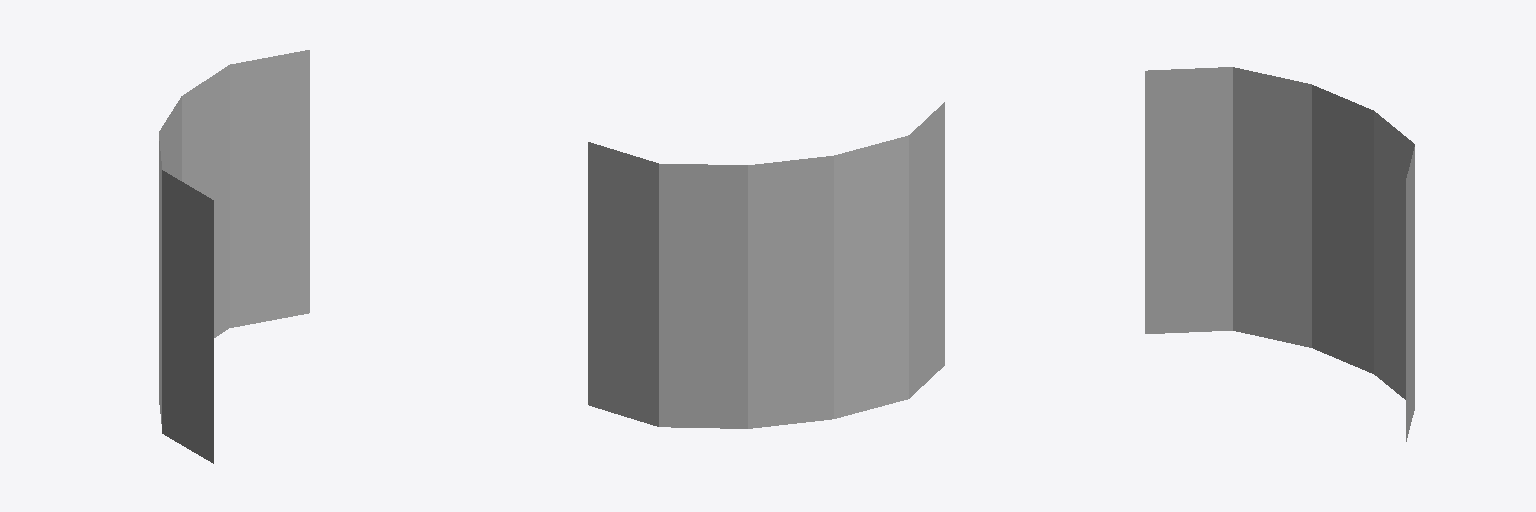
File: wall-corner-inverse.obj
The picture shows the model from 3 angles: view 1: azimuth 30°, elevation 25°; view 2: azimuth 150°, elevation 25°; view 3: azimuth 270°, elevation 25°; orthographic projection.
Bounding box in the file's own units: 3.72 × 4 × 3.72.